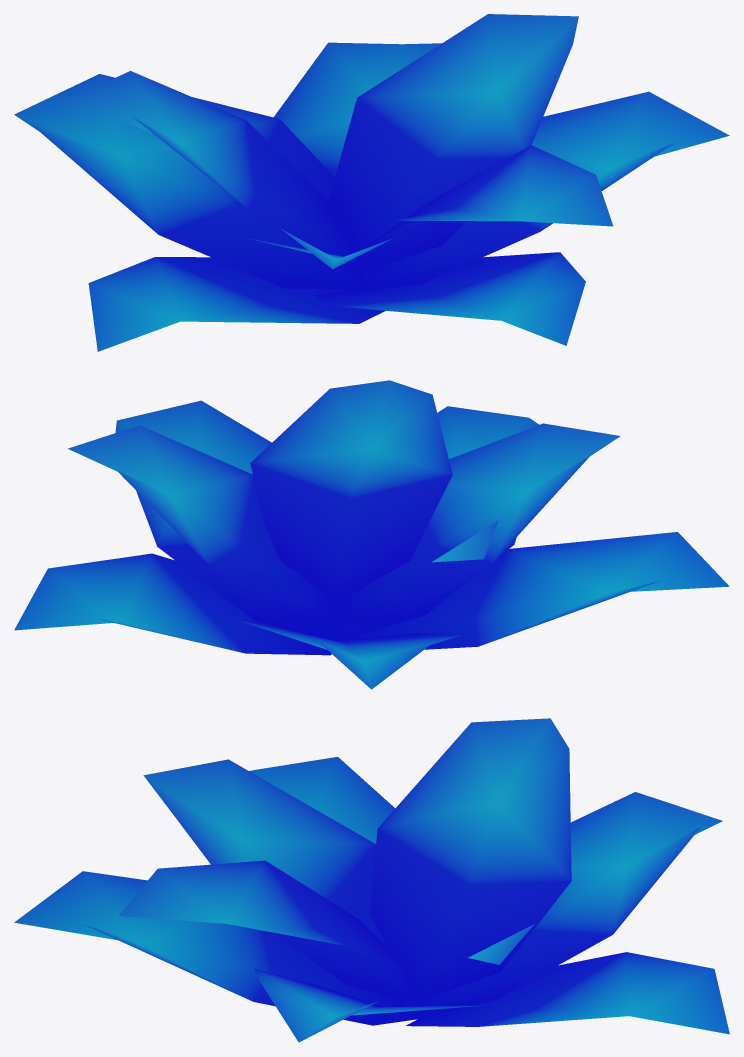
Rendered from SM_Env_Flower_01.gltf.
The picture shows the model from 3 angles, top to bottom: view 1: azimuth 30°, elevation 25°; view 2: azimuth 150°, elevation 25°; view 3: azimuth 270°, elevation 25°; orthographic projection. The views are drawn at different scales.
Parts seen in each view (by area): view 1: SM_Env_Flower_01_LOD0; view 2: SM_Env_Flower_01_LOD0; view 3: SM_Env_Flower_01_LOD0.
Boxes of the visible parts, x1,y1,x2,y2 form: SM_Env_Flower_01_LOD0: [14, 14, 729, 351]; SM_Env_Flower_01_LOD0: [14, 380, 729, 689]; SM_Env_Flower_01_LOD0: [14, 718, 729, 1042].
Size of the model in its own units: 0.5625 by 0.1673 by 0.5457.
